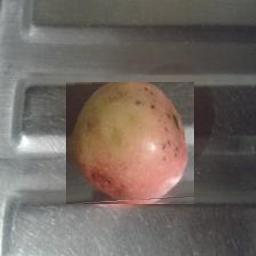Mango Semifresh: (67, 83, 195, 205)
